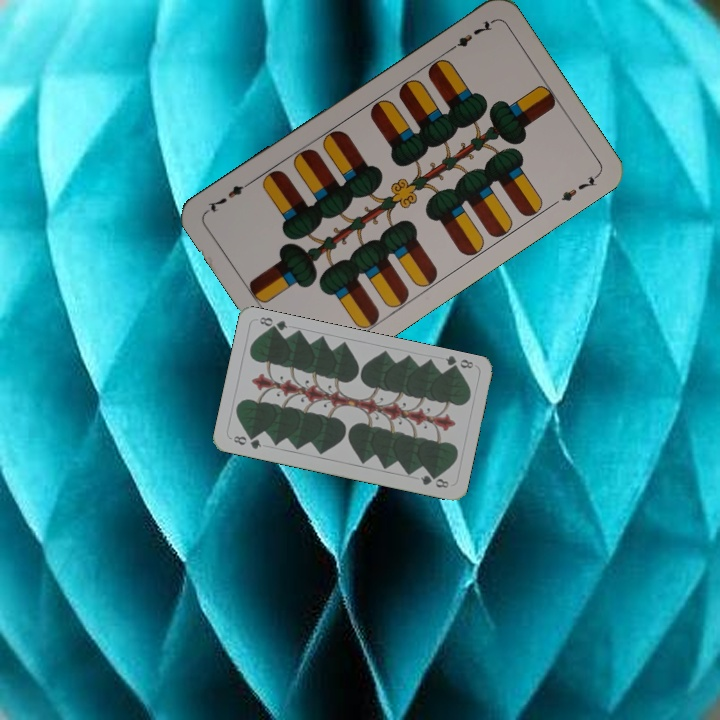E7: (444, 16, 496, 55)
G8: (441, 352, 476, 374), (229, 432, 264, 452)
